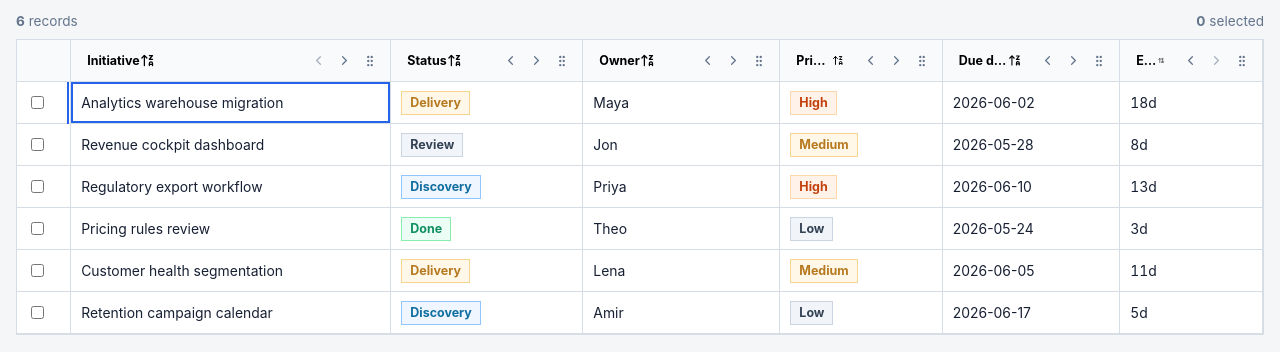
Scenario: workspace components › cancels inline grid edits with Escape
Double-click the cell with test id "grid-cell-rec-pricing-rules-title" at (231, 229), box left=71, top=208, right=391, bottom=250
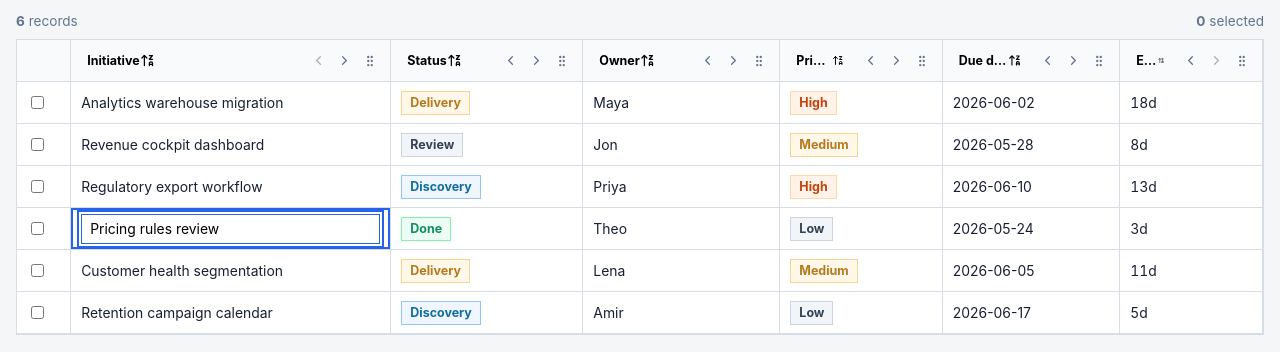
Replace the text in the field named "Edit cell" with "Temporary title". click: (231, 228)
box: left=81, top=214, right=380, bottom=244
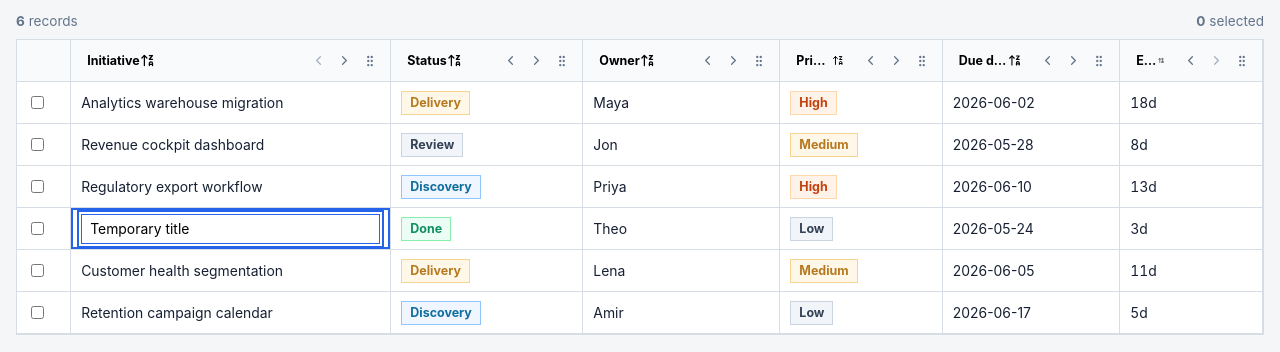
Press Escape in the field named "Edit cell", box left=81, top=214, right=380, bottom=244
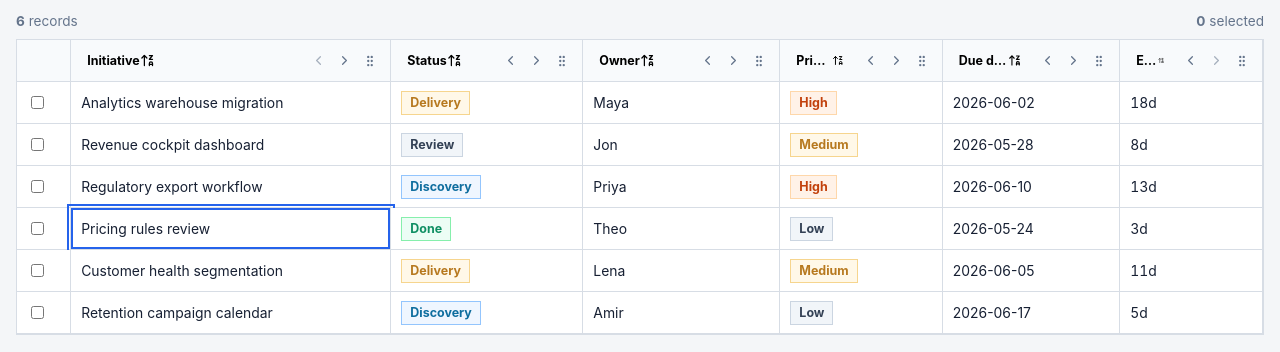
Expected: the text "Pricing rules review" is shown, left=81, top=221, right=210, bottom=237
